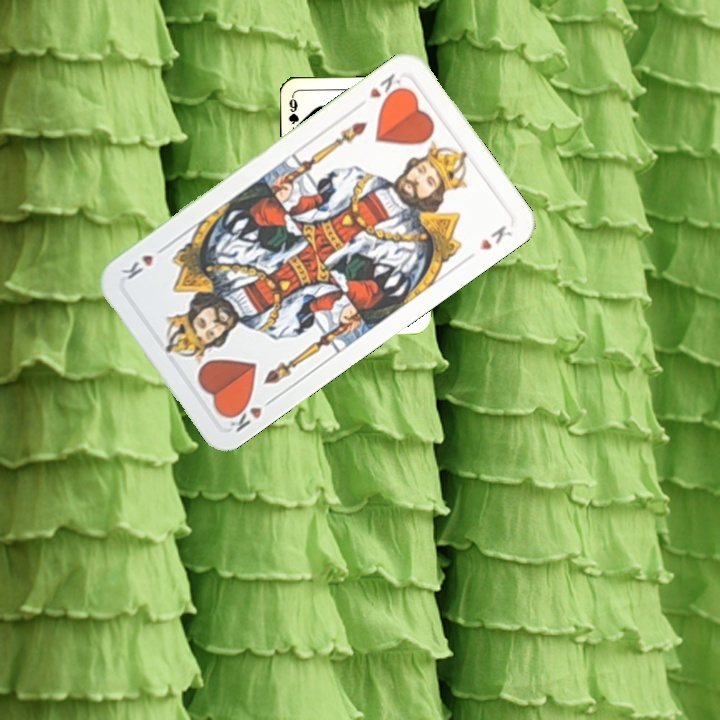G9: (285, 92, 303, 133)
HK: (222, 393, 278, 435), (365, 69, 406, 106)
